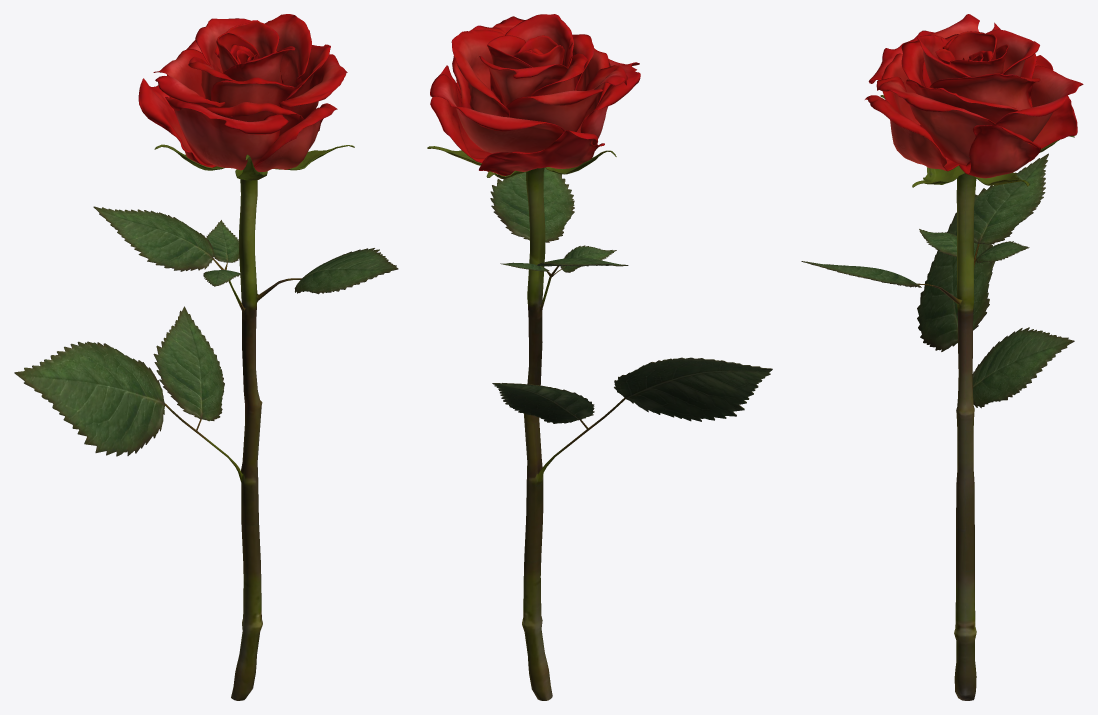
File: rose.glb
The picture shows the model from 3 angles, left to right: view 1: azimuth 30°, elevation 25°; view 2: azimuth 150°, elevation 25°; view 3: azimuth 270°, elevation 25°; orthographic projection.
Visible parts, largest first — view 1: OBJ_RoseStem, OBJ_RoseBud; view 2: OBJ_RoseStem, OBJ_RoseBud; view 3: OBJ_RoseStem, OBJ_RoseBud.
Part boxes in pixels (x1,y1,x2,y2): OBJ_RoseStem: (14, 144, 398, 700); OBJ_RoseBud: (138, 14, 347, 171); OBJ_RoseStem: (427, 146, 772, 700); OBJ_RoseBud: (430, 14, 640, 175); OBJ_RoseStem: (801, 95, 1074, 700); OBJ_RoseBud: (865, 14, 1083, 178).
Bounding box in the file's own units: 0.2552 × 0.5024 × 0.1926.
2 materials, 2 textured.
